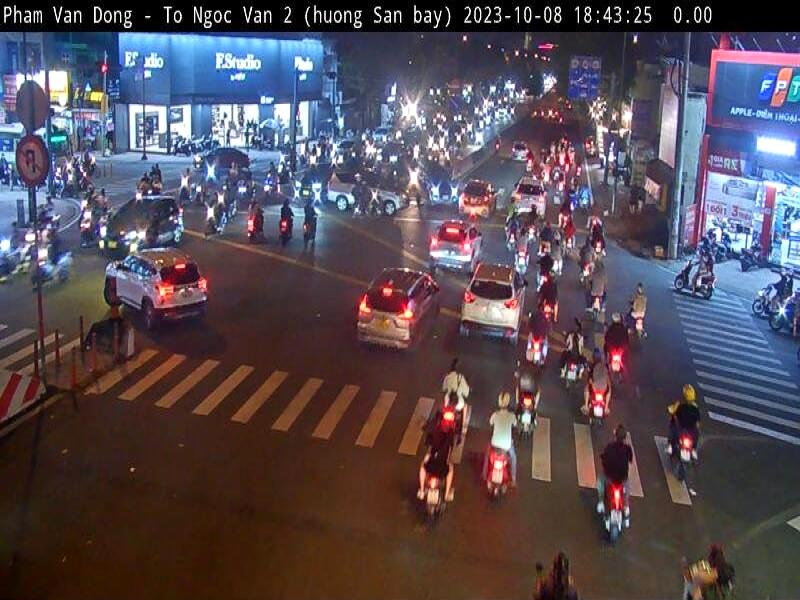car: (103, 247, 211, 334), (350, 264, 444, 356), (102, 194, 184, 258), (458, 266, 527, 342)
